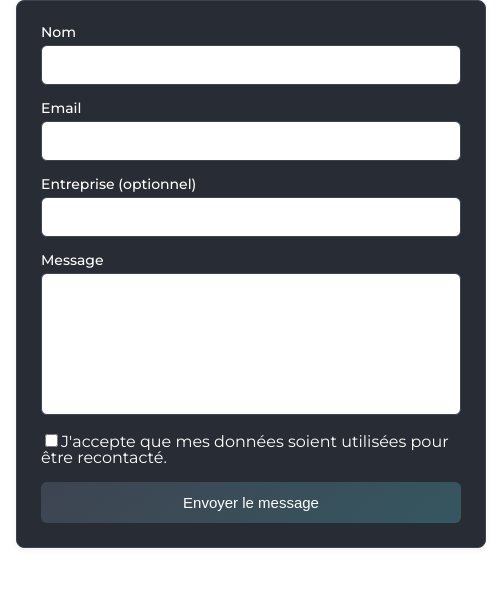
Test: ContactForm - Jest full test suite › shows success message after successful submit
Type "Valentin" into the field labelled "Nom" at (251, 65), box [41,45,461,85]
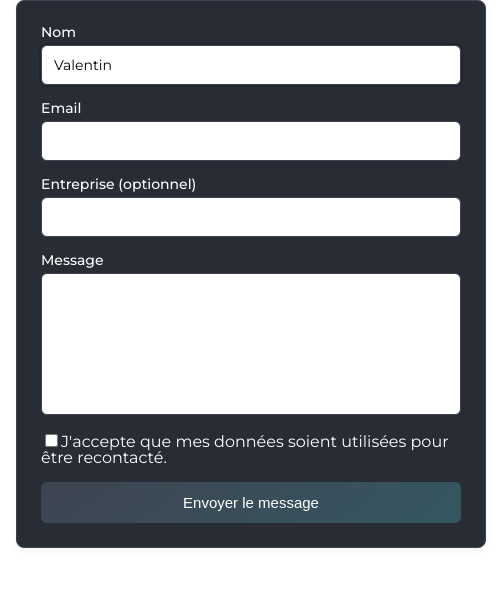
Type "test@example.com" into the field labelled "Email" at (251, 141), box [41,121,461,161]
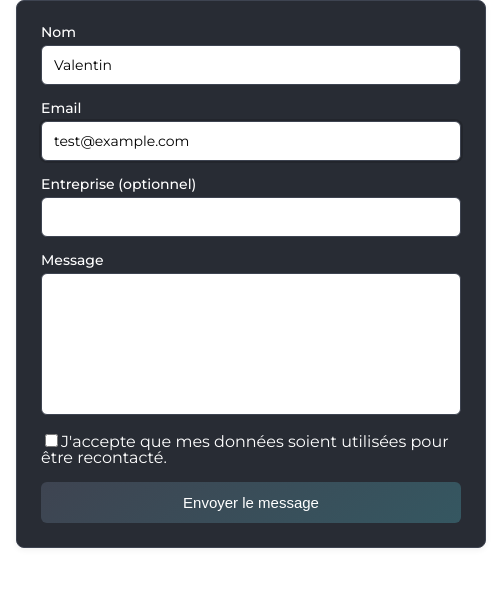
Type "Hello" into the text box labelled "Message" at (251, 344), box [41,273,461,415]
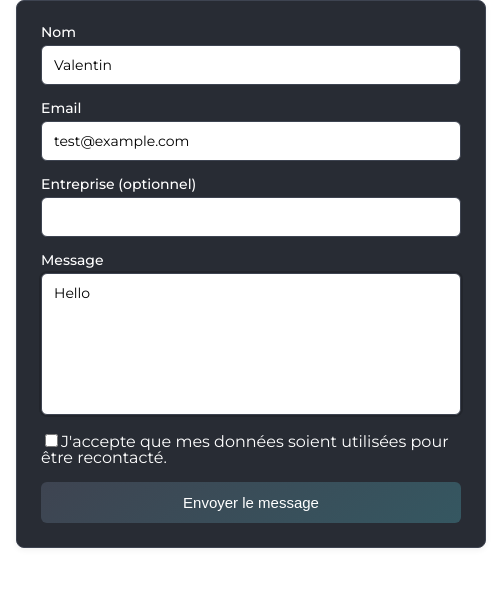
Click the checkbox named "gdpr consent" at (52, 440), box [45,434,58,447]
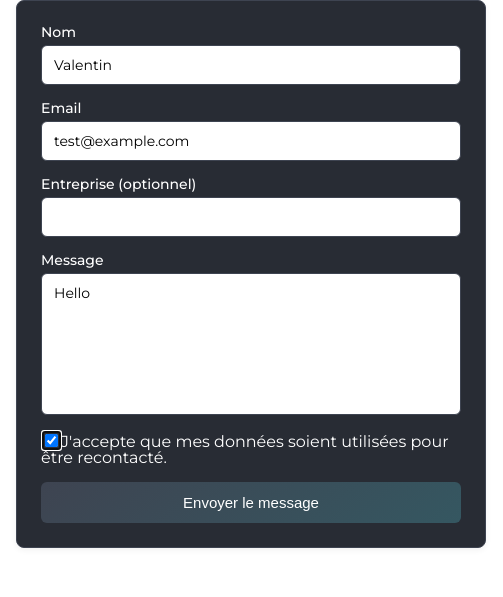
Click the button "Envoyer le message" at (251, 502), box [41,482,461,523]
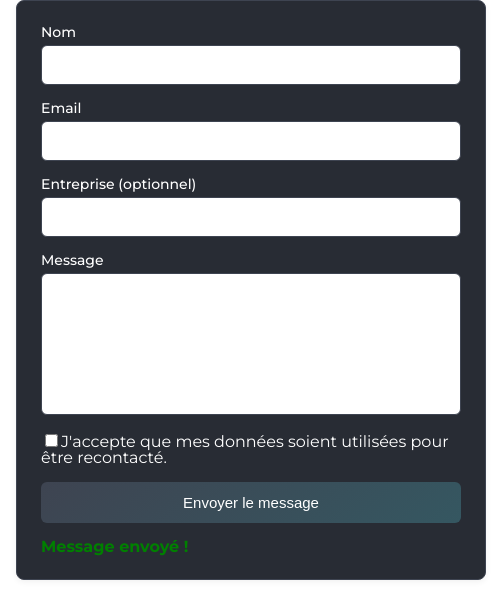
Check: the text "Message envoyé !" is shown, box [41,537,188,556]
